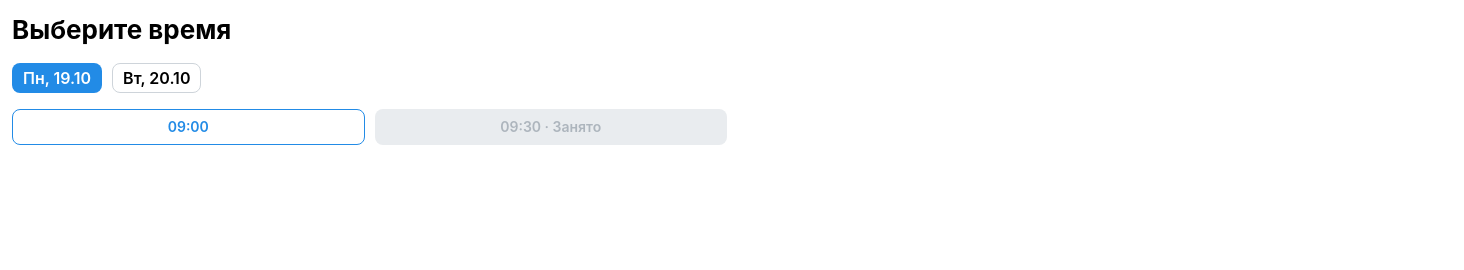
Test: BookSlot › lets a guest book a free slot and shows a confirmation
This screenshot has width=1464, height=270.
Click the button "09:00" at (188, 127), box [12,109,364,145]
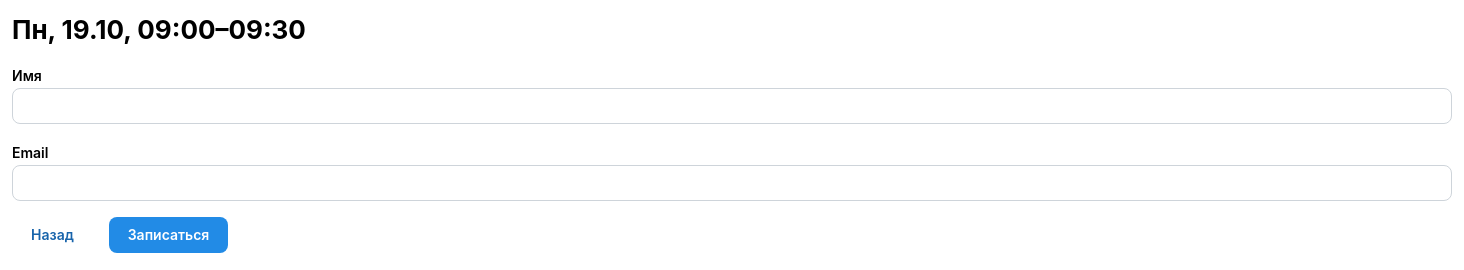
Type "Иван" into the field labelled "Имя" at (732, 106), box [12,88,1452,124]
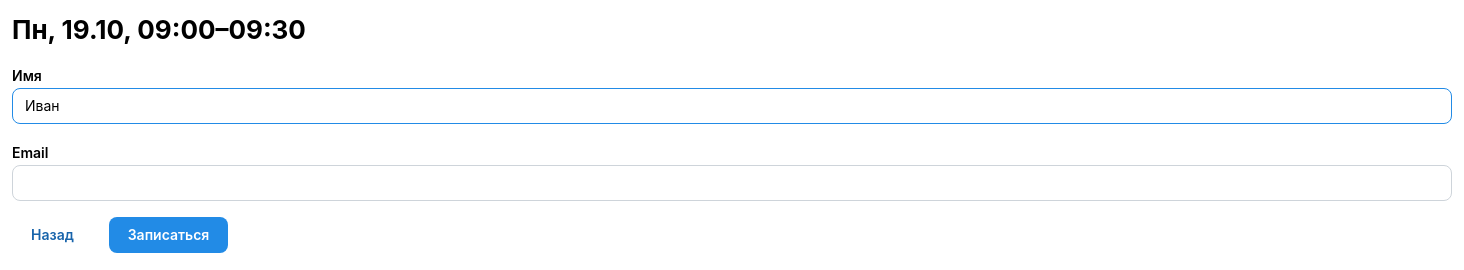
Type "ivan@example.com" into the field labelled "Email" at (732, 183), box [12,165,1452,201]
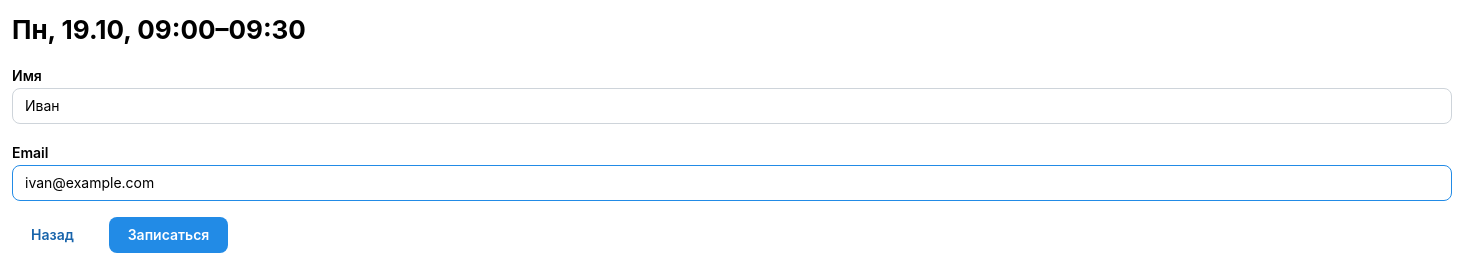
Click the button "Записаться" at (168, 235), box [109,217,228,253]
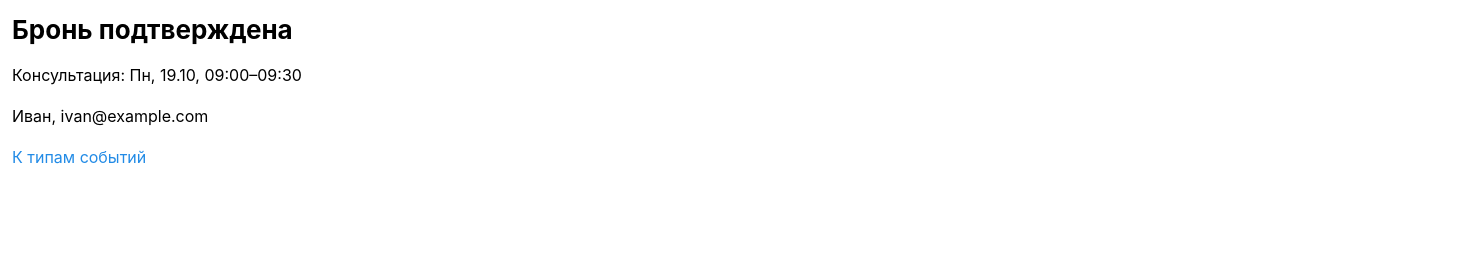
Check: the heading "Бронь подтверждена" is shown, box [12,14,293,45]
Check: the text "Консультация: Пн, 19.10, 09:00–09:30" is shown, box [12,65,302,85]
